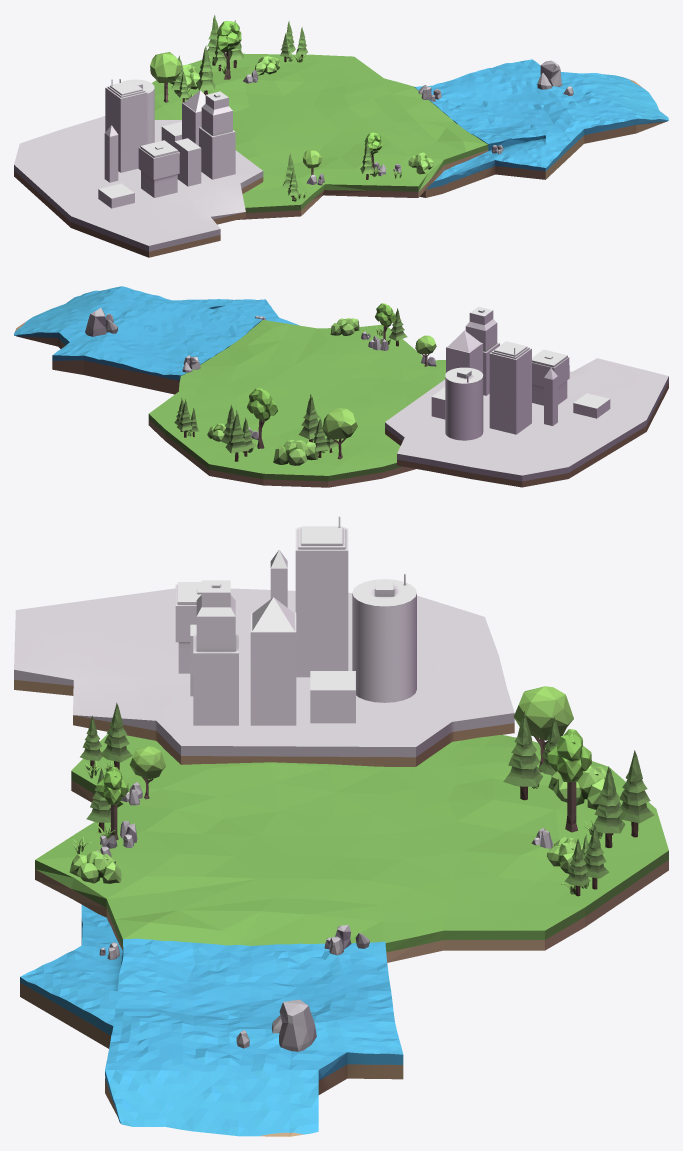
File: EXTERIOR.fbx
The picture shows the model from 3 angles, top to bottom: view 1: azimuth 30°, elevation 25°; view 2: azimuth 150°, elevation 25°; view 3: azimuth 270°, elevation 25°; orthographic projection. The views are drawn at different scales.
Parts seen in each view (by area): view 1: EXTERIOR_ground01, EXTERIOR_Water01, EXTERIOR_asphal01, EXTERIOR_building08, EXTERIOR_building02, EXTERIOR_building07, EXTERIOR_building06, EXTERIOR_building05, EXTERIOR_tree05, EXTERIOR_building04, EXTERIOR_tree02, EXTERIOR_building03 (+6 smaller); view 2: EXTERIOR_ground01, EXTERIOR_asphal01, EXTERIOR_Water01, EXTERIOR_building08, EXTERIOR_building09, EXTERIOR_building07, EXTERIOR_building02, EXTERIOR_building05, EXTERIOR_tree05, EXTERIOR_Bush05, EXTERIOR_tree02, EXTERIOR_building04 (+9 smaller); view 3: EXTERIOR_ground01, EXTERIOR_Water01, EXTERIOR_asphal01, EXTERIOR_building08, EXTERIOR_building09, EXTERIOR_building02, EXTERIOR_building05, EXTERIOR_building01, EXTERIOR_tree05, EXTERIOR_tree02, EXTERIOR_building07, EXTERIOR_pine016 (+8 smaller).
Part boxes in pixels (left/top/right/bottom): EXTERIOR_ground01: left=152, top=53, right=488, bottom=219; EXTERIOR_Water01: left=414, top=59, right=668, bottom=197; EXTERIOR_asphal01: left=14, top=116, right=263, bottom=257; EXTERIOR_building08: left=105, top=79, right=147, bottom=172; EXTERIOR_building02: left=199, top=91, right=235, bottom=179; EXTERIOR_building07: left=138, top=140, right=179, bottom=197; EXTERIOR_building06: left=174, top=138, right=201, bottom=186; EXTERIOR_building05: left=182, top=90, right=205, bottom=145; EXTERIOR_tree05: left=150, top=52, right=181, bottom=102; EXTERIOR_building04: left=104, top=125, right=118, bottom=182; EXTERIOR_tree02: left=216, top=21, right=241, bottom=79; EXTERIOR_building03: left=98, top=183, right=134, bottom=208; EXTERIOR_ground01: left=148, top=320, right=445, bottom=487; EXTERIOR_asphal01: left=385, top=358, right=668, bottom=487; EXTERIOR_Water01: left=14, top=286, right=299, bottom=394; EXTERIOR_building08: left=489, top=341, right=531, bottom=434; EXTERIOR_building09: left=445, top=367, right=483, bottom=440; EXTERIOR_building07: left=532, top=349, right=569, bottom=405; EXTERIOR_building02: left=465, top=306, right=499, bottom=395; EXTERIOR_building05: left=446, top=330, right=482, bottom=373; EXTERIOR_tree05: left=322, top=408, right=357, bottom=459; EXTERIOR_Bush05: left=273, top=439, right=318, bottom=465; EXTERIOR_tree02: left=247, top=388, right=277, bottom=448; EXTERIOR_building04: left=544, top=368, right=557, bottom=425; EXTERIOR_ground01: left=35, top=734, right=668, bottom=962; EXTERIOR_Water01: left=20, top=905, right=403, bottom=1136; EXTERIOR_asphal01: left=14, top=588, right=514, bottom=766; EXTERIOR_building08: left=295, top=516, right=348, bottom=677; EXTERIOR_building09: left=352, top=573, right=416, bottom=702; EXTERIOR_building02: left=193, top=580, right=238, bottom=725; EXTERIOR_building05: left=250, top=597, right=296, bottom=725; EXTERIOR_building01: left=310, top=671, right=355, bottom=723; EXTERIOR_tree05: left=513, top=686, right=573, bottom=772; EXTERIOR_tree02: left=547, top=729, right=591, bottom=832; EXTERIOR_building07: left=175, top=582, right=201, bottom=673; EXTERIOR_pine016: left=503, top=711, right=543, bottom=800.
Size of what is drawn, in the model's own units: 113 by 22.15 by 63.28.
